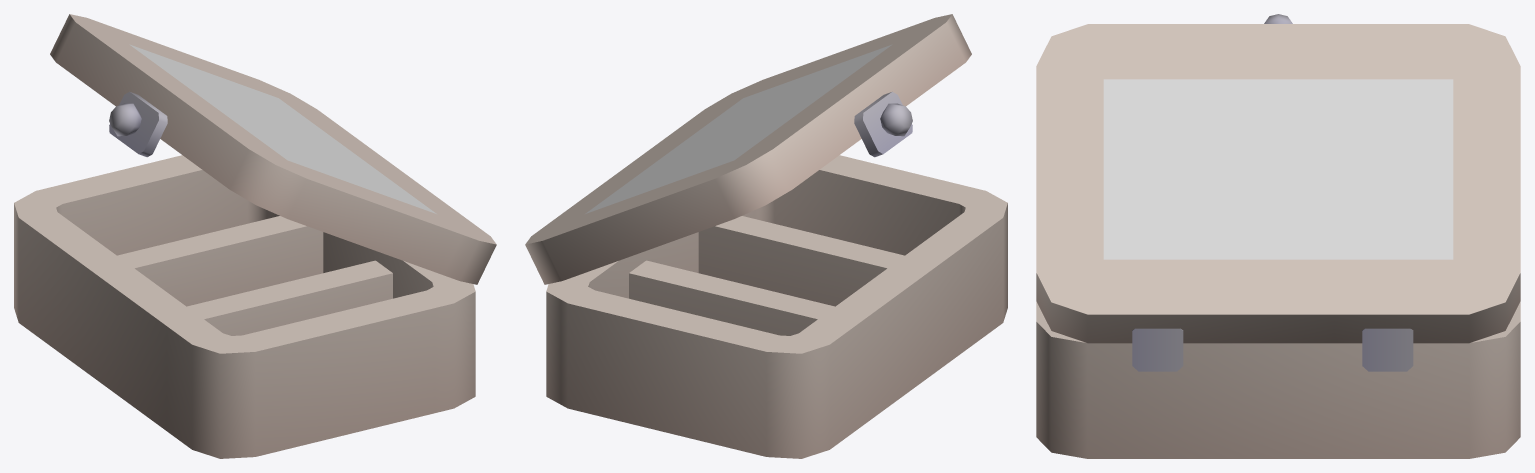
Rendered from tea-box-open.glb.
The picture shows the model from 3 angles, left to right: view 1: azimuth 30°, elevation 25°; view 2: azimuth 150°, elevation 25°; view 3: azimuth 270°, elevation 25°; orthographic projection. The views are drawn at different scales.
Visible parts, largest first — view 1: tea-box-open; view 2: tea-box-open; view 3: tea-box-open.
Boxes of the visible parts, x1,y1,x2,y2 form: tea-box-open: [14, 14, 496, 458]; tea-box-open: [525, 14, 1007, 458]; tea-box-open: [1036, 14, 1520, 458].
Bounding box in the file's own units: 0.2785 × 0.2555 × 0.3552.
